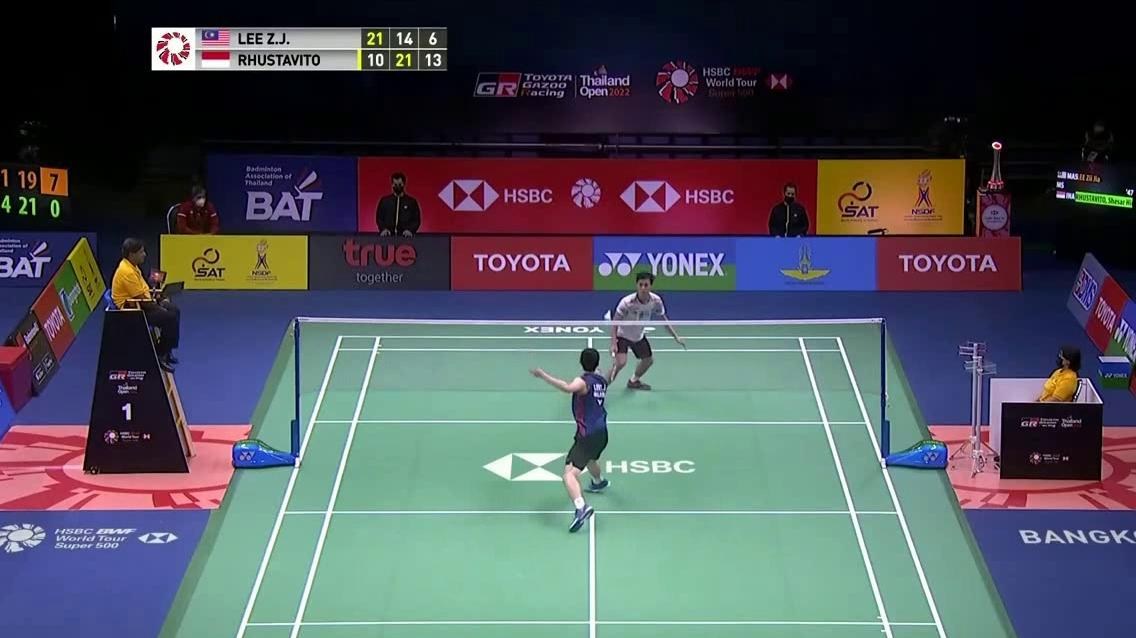racket: (609, 350, 620, 384), (596, 369, 605, 380)
shuttle: (603, 309, 613, 320)
